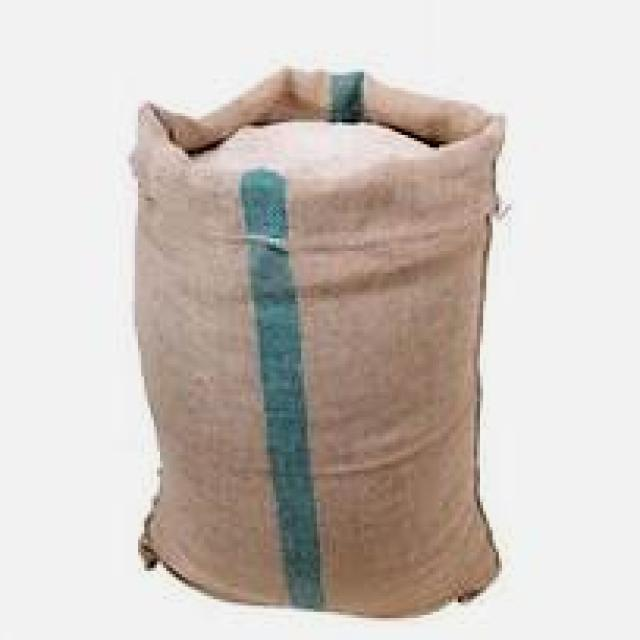gunny_bag: (122, 152, 507, 632)
